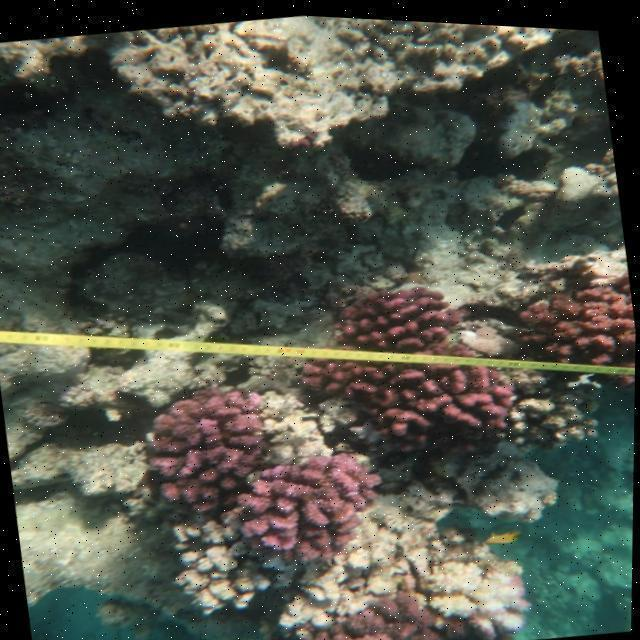Bleached Coral: (419, 527, 547, 640)
Healthy Coral: (281, 263, 536, 460), (136, 375, 281, 516), (519, 237, 638, 397), (251, 437, 386, 573), (253, 578, 440, 640)
